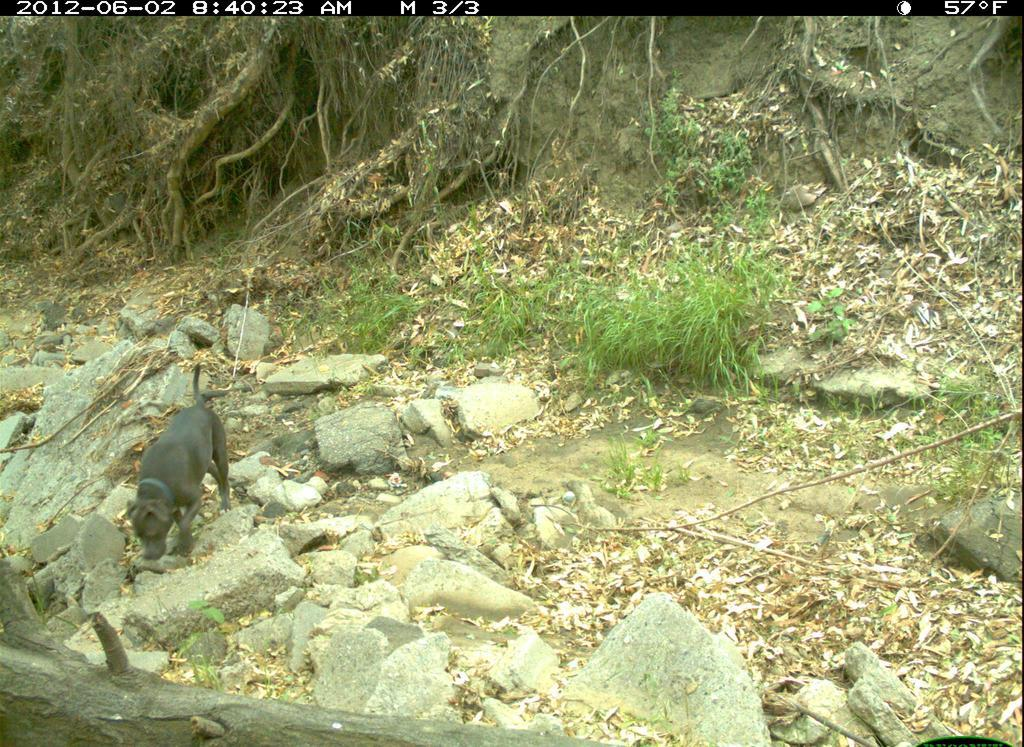dog: (127, 364, 247, 586)
